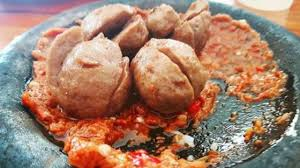bakso: (30, 9, 224, 118)
